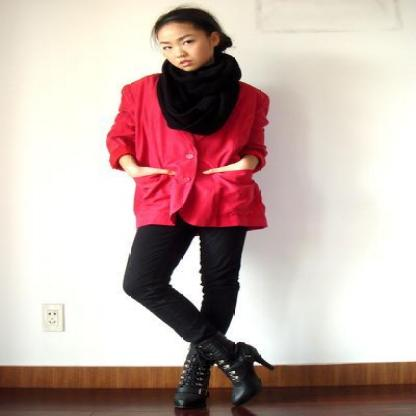jacket: (106, 75, 268, 240)
pants: (122, 214, 252, 339)
shoe: (173, 334, 280, 405)
